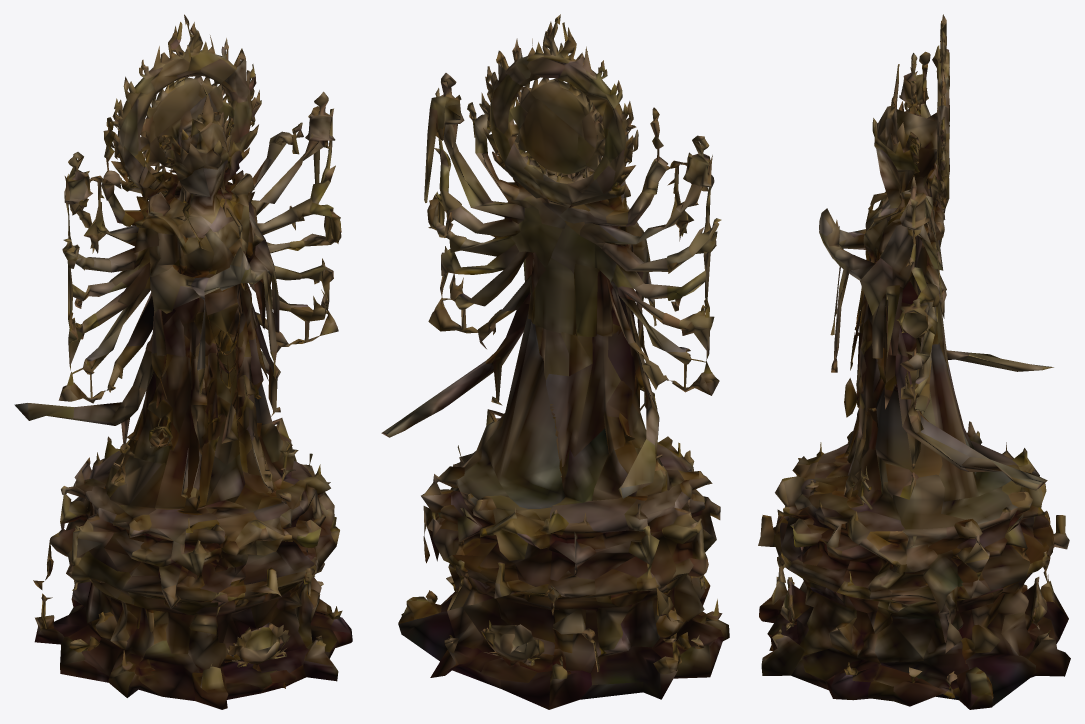
File: mob_baiyuan.glb
3 views of the same model, side by side, from view 1: azimuth 30°, elevation 25°; view 2: azimuth 150°, elevation 25°; view 3: azimuth 270°, elevation 25° (orthographic). The views are drawn at different scales.
Parts seen in each view (by area): view 1: tripo_node_d853c17c-13e7-4519-bfaa-85048e066c4d; view 2: tripo_node_d853c17c-13e7-4519-bfaa-85048e066c4d; view 3: tripo_node_d853c17c-13e7-4519-bfaa-85048e066c4d.
Boxes of the visible parts, x1=… form: tripo_node_d853c17c-13e7-4519-bfaa-85048e066c4d: x1=14, y1=14, x2=352, y2=709; tripo_node_d853c17c-13e7-4519-bfaa-85048e066c4d: x1=381, y1=14, x2=729, y2=709; tripo_node_d853c17c-13e7-4519-bfaa-85048e066c4d: x1=758, y1=14, x2=1070, y2=709.
Bounding box in the file's own units: 0.462 × 0.9768 × 0.4392.
1 material, 1 textured.
